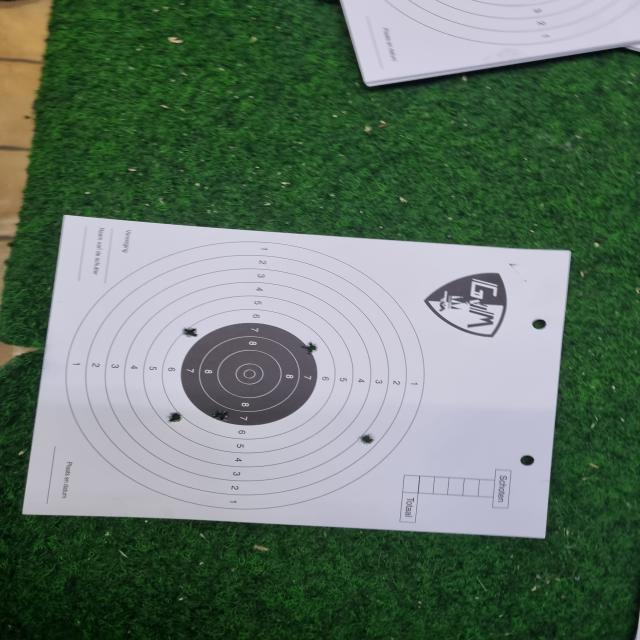3: (359, 434, 376, 445)
6: (166, 411, 182, 424), (182, 327, 198, 338)
7: (301, 341, 317, 355), (212, 409, 228, 421)
Target: (67, 241, 426, 510)
black_contour: (180, 322, 318, 426)
